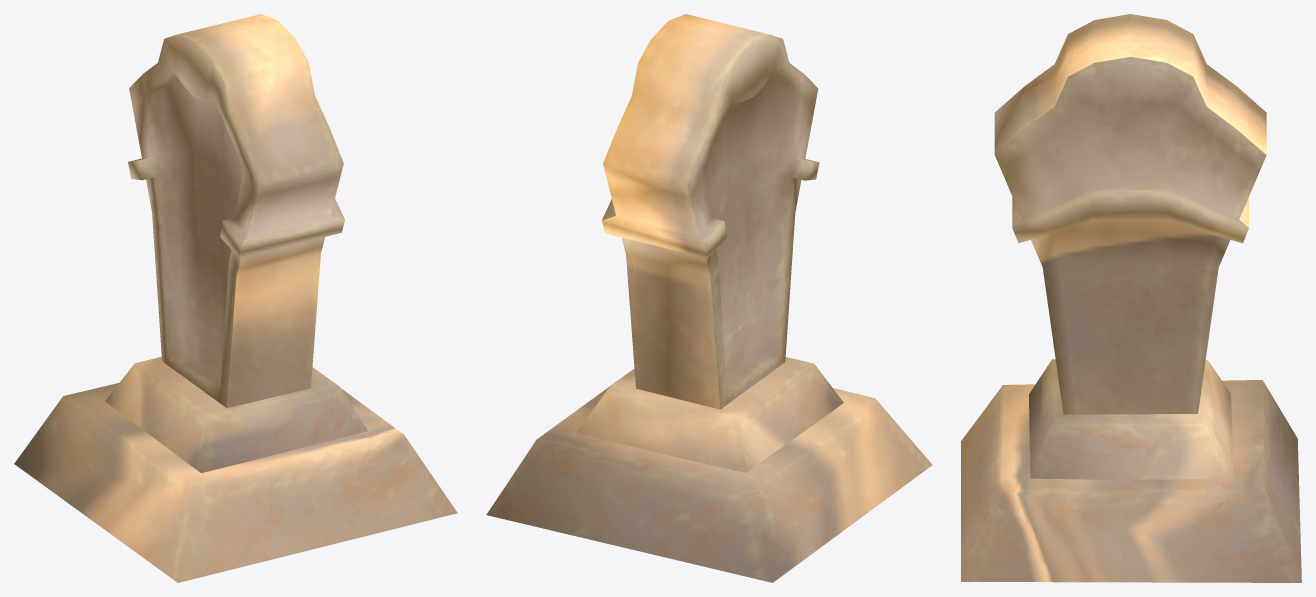
File: SM_Stylized_Tombstone_A.fbx
3 views of the same model, side by side, from view 1: azimuth 30°, elevation 25°; view 2: azimuth 150°, elevation 25°; view 3: azimuth 270°, elevation 25° (orthographic). The views are drawn at different scales.
Parts seen in each view (by area): view 1: SM_Stylized_Tombstone_A_LOD0; view 2: SM_Stylized_Tombstone_A_LOD0; view 3: SM_Stylized_Tombstone_A_LOD0.
Part boxes in pixels (<box>): SM_Stylized_Tombstone_A_LOD0: <box>14,14,457,582</box>; SM_Stylized_Tombstone_A_LOD0: <box>486,14,932,582</box>; SM_Stylized_Tombstone_A_LOD0: <box>961,14,1301,582</box>.
Size of the model in its own units: 87.13 by 87.06 by 134.
